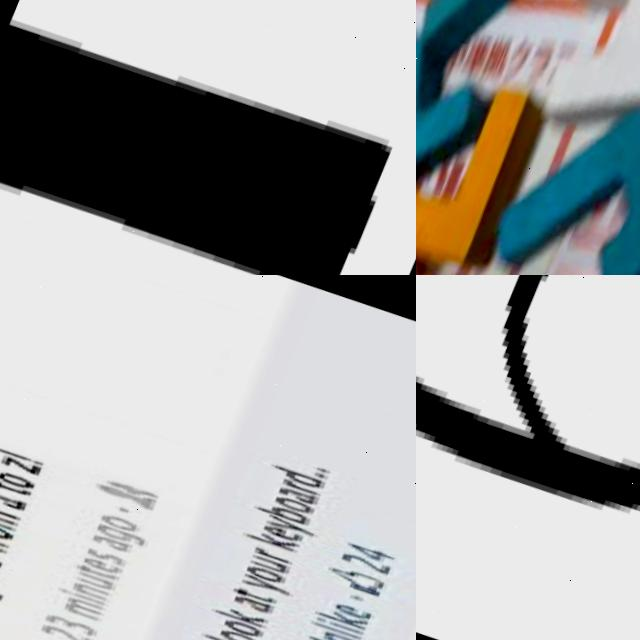0: (346, 542, 401, 574)
6: (416, 275, 640, 597)
H: (543, 0, 640, 150)
J: (478, 87, 640, 275)
L: (416, 57, 559, 275)
P: (416, 22, 491, 245)
T: (0, 0, 416, 275)
V: (416, 0, 592, 69)
